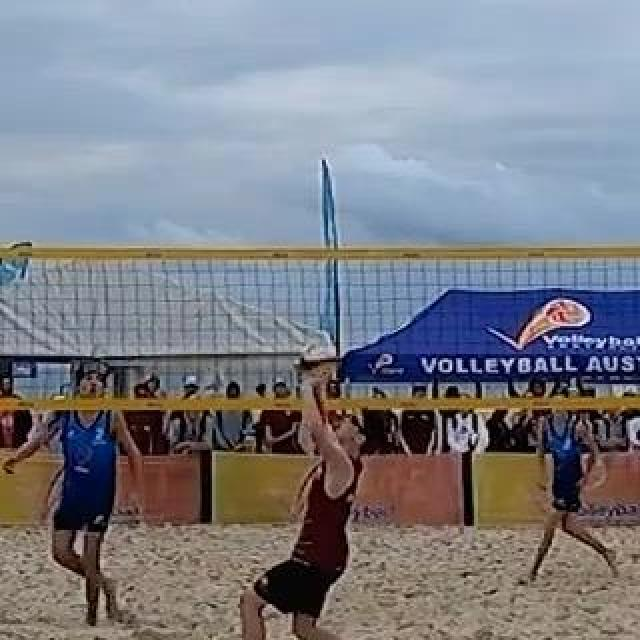volleyball: (299, 340, 341, 382)
